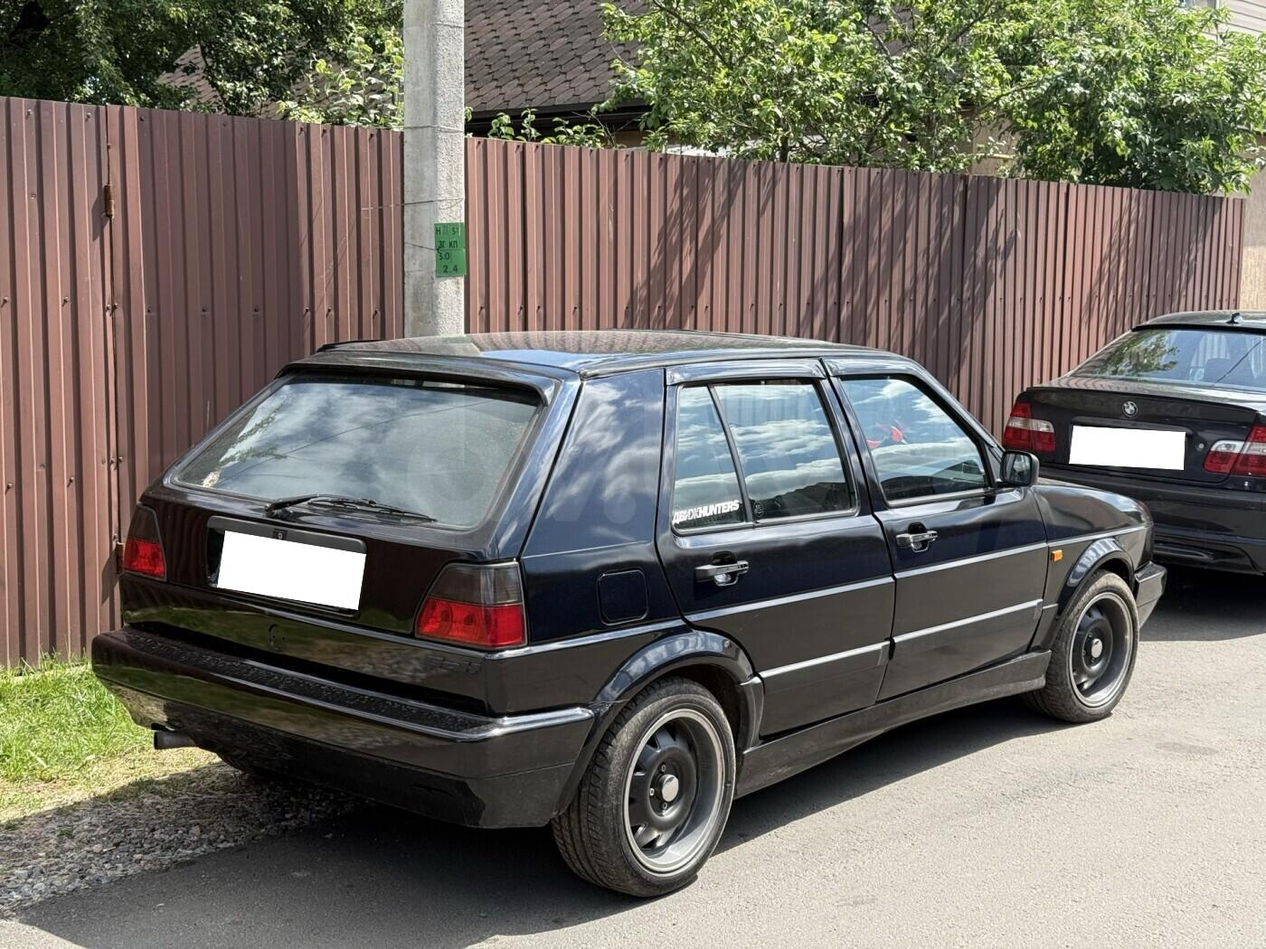Golf_1983-1992: (96, 328, 1174, 891)
